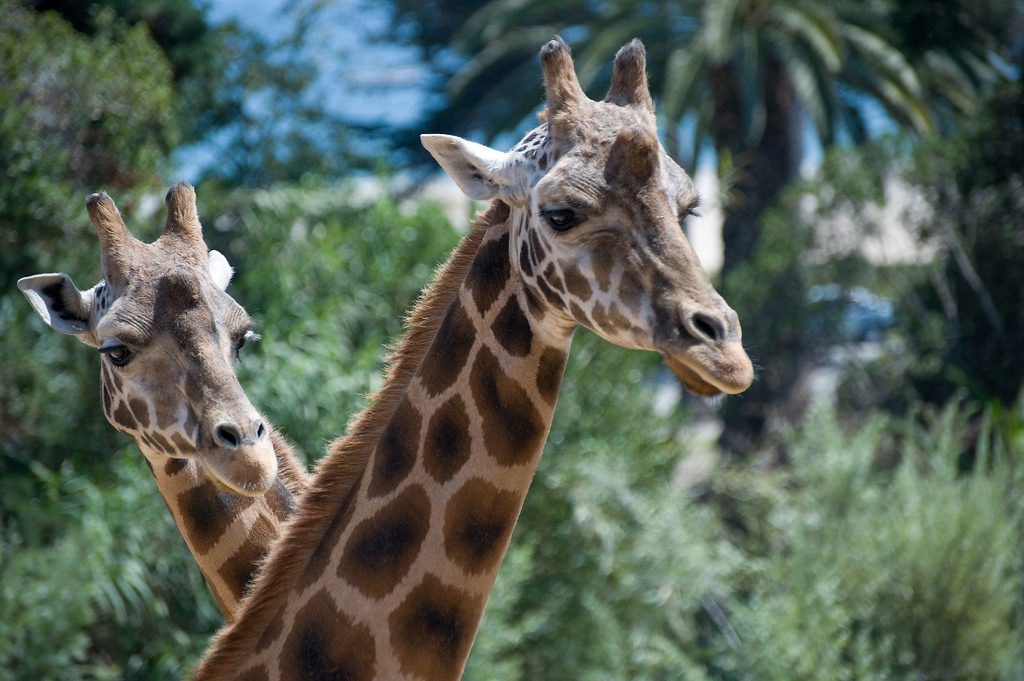giraffe: (295, 50, 766, 650), (30, 155, 359, 621)
